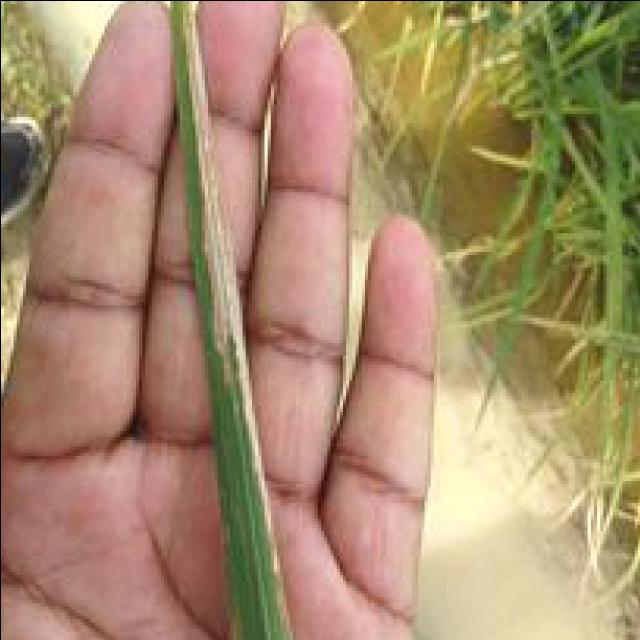Bacterial_Leaf_Blight: (207, 16, 273, 558)
